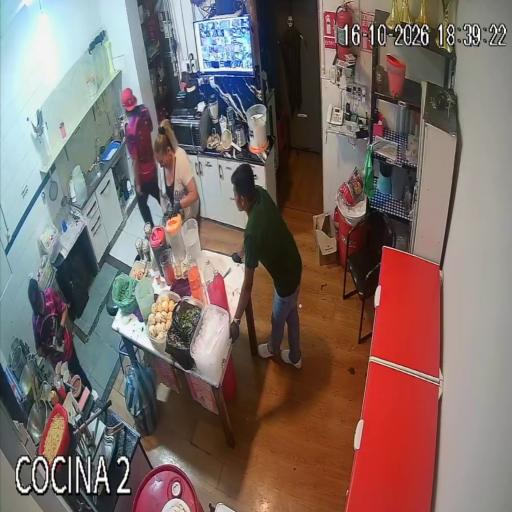Envase Ketchup: (57, 380, 66, 400)
Envase Llajua: (48, 388, 61, 405)
Jarra1: (150, 228, 166, 274)
Jarra2: (165, 214, 186, 263)
Jarra3: (182, 218, 201, 268)
Microondas: (170, 109, 211, 150)
Persona1: (122, 89, 159, 219)
Persona2: (29, 279, 85, 376)
Persona3: (154, 121, 199, 220)
Persona4: (230, 164, 302, 368)
Taper: (40, 225, 60, 261)
Taper2: (166, 296, 203, 370)
Taper3: (190, 304, 230, 384)
Taper4: (146, 290, 182, 352)
olla1: (19, 358, 38, 401)
